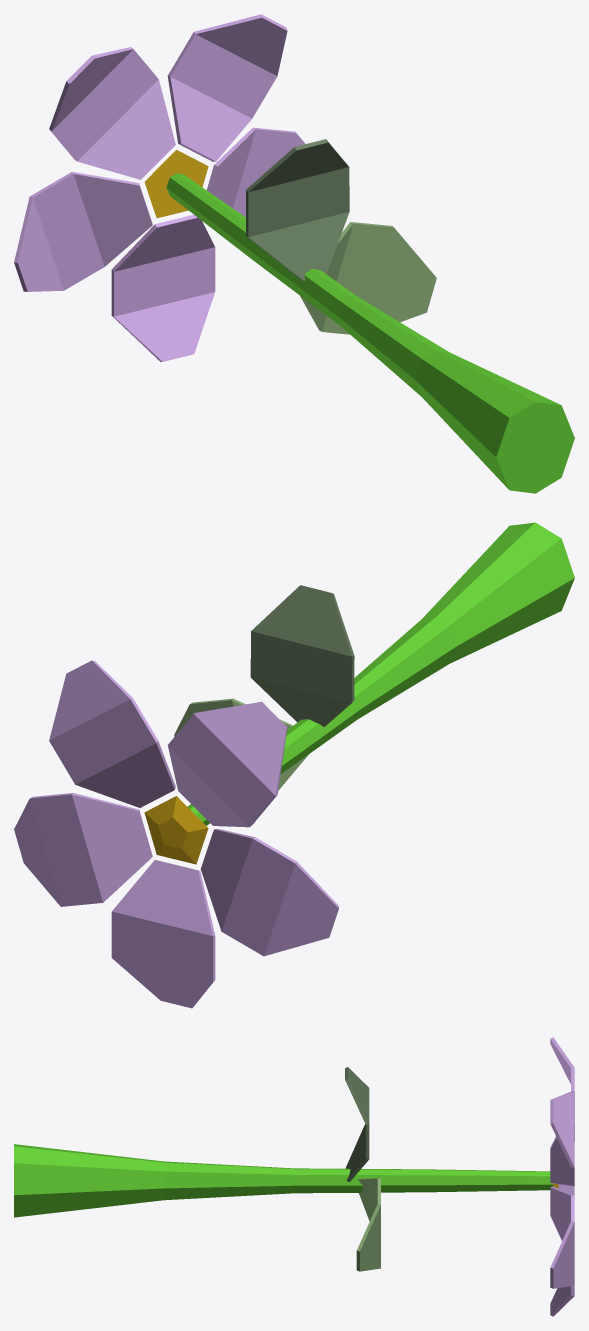
The model's file is Flower_002.fbx.
3 views of the same model, one above another, from view 1: azimuth 30°, elevation 25°; view 2: azimuth 150°, elevation 25°; view 3: azimuth 270°, elevation 25° (orthographic). The views are drawn at different scales.
Visible parts, largest first — view 1: Flower_002; view 2: Flower_002; view 3: Flower_002.
Boxes of the visible parts, bbox=[...] form: Flower_002: bbox=[14, 14, 574, 493]; Flower_002: bbox=[14, 522, 574, 1008]; Flower_002: bbox=[14, 1037, 574, 1316].
Bounding box in the file's own units: 80.21 × 76.29 × 160.
